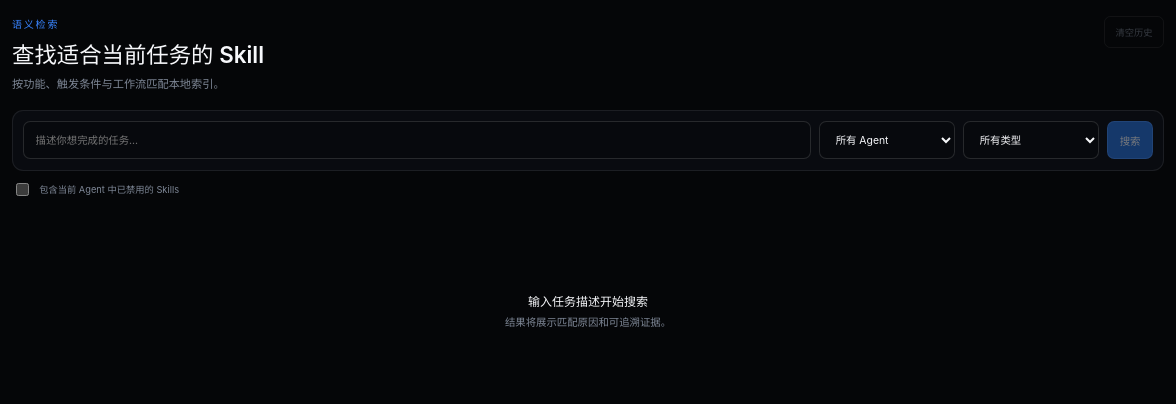
Scenario: SemanticSearch › renders skill names, reasons, evidence, and expired state
The image size is (1176, 404).
Step 1. Type "release" into the search field → (417, 140), box [23,121,812,159]
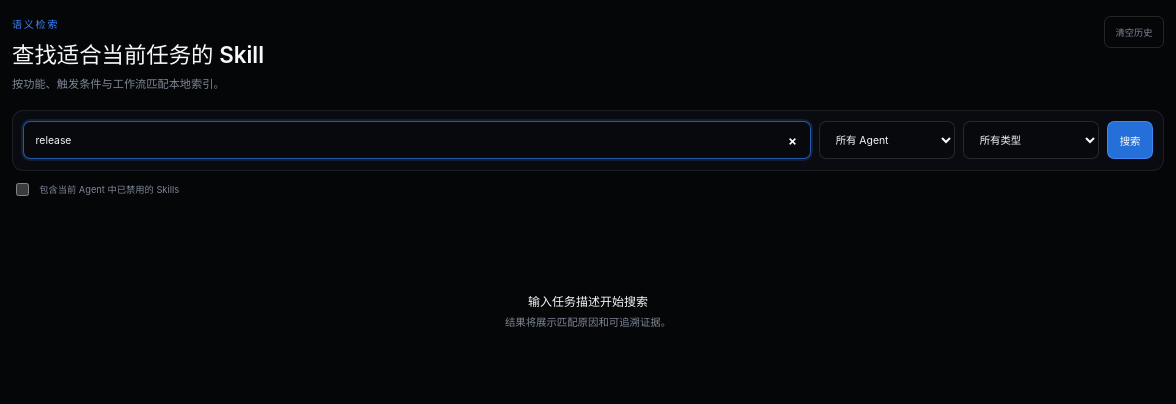
Step 2. Click the button "搜索" → (1130, 140), box [1108,121,1153,159]
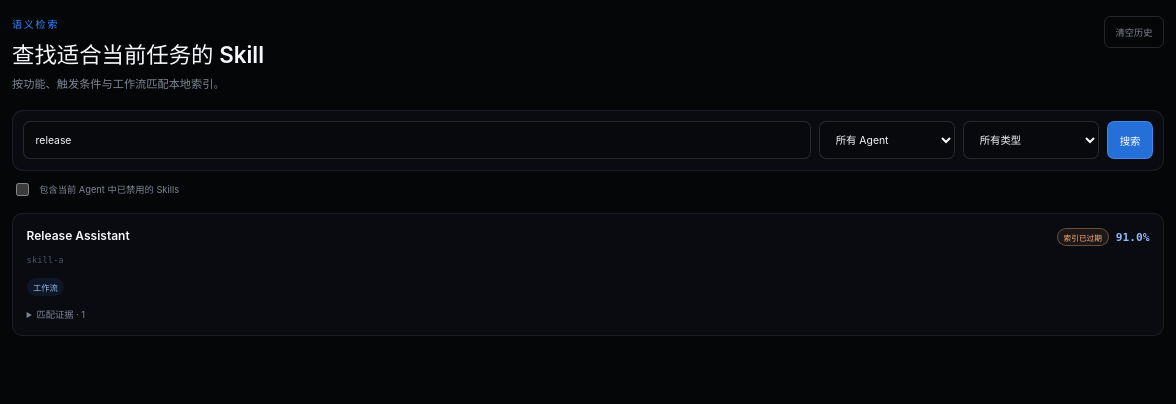
Now the list item "Release Assistant" is shown, box [27,228,130,243]
Now the text "索引已过期" is shown, box [1057,228,1108,246]
Now the text "工作流" is shown, box [27,278,64,296]
Step 3. Click the heading "匹配证据 · 1" → (61, 315), box [36,310,85,320]
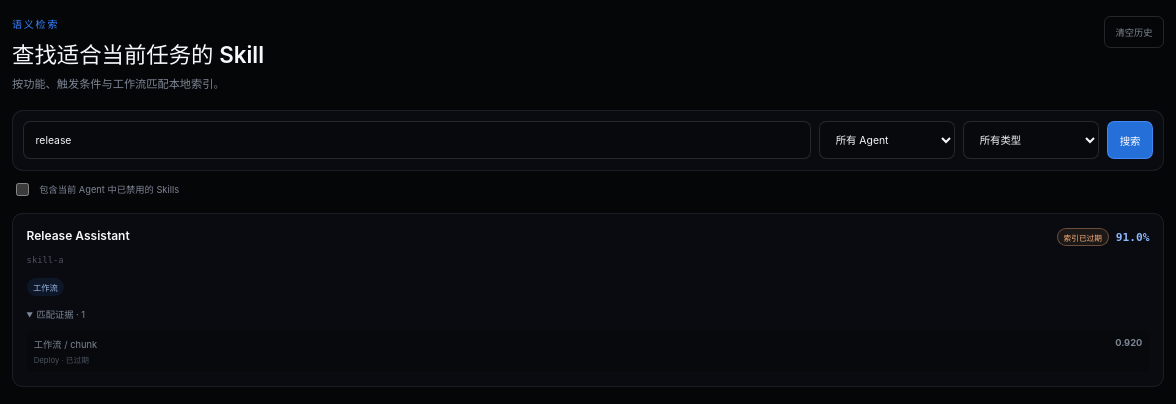
Now the text "Deploy · 已过期" is shown, box [34,356,89,365]
